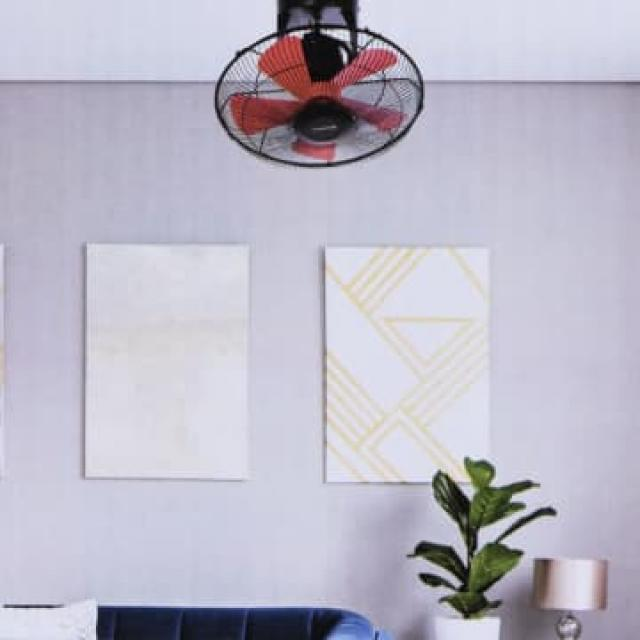fan: (210, 0, 428, 190)
